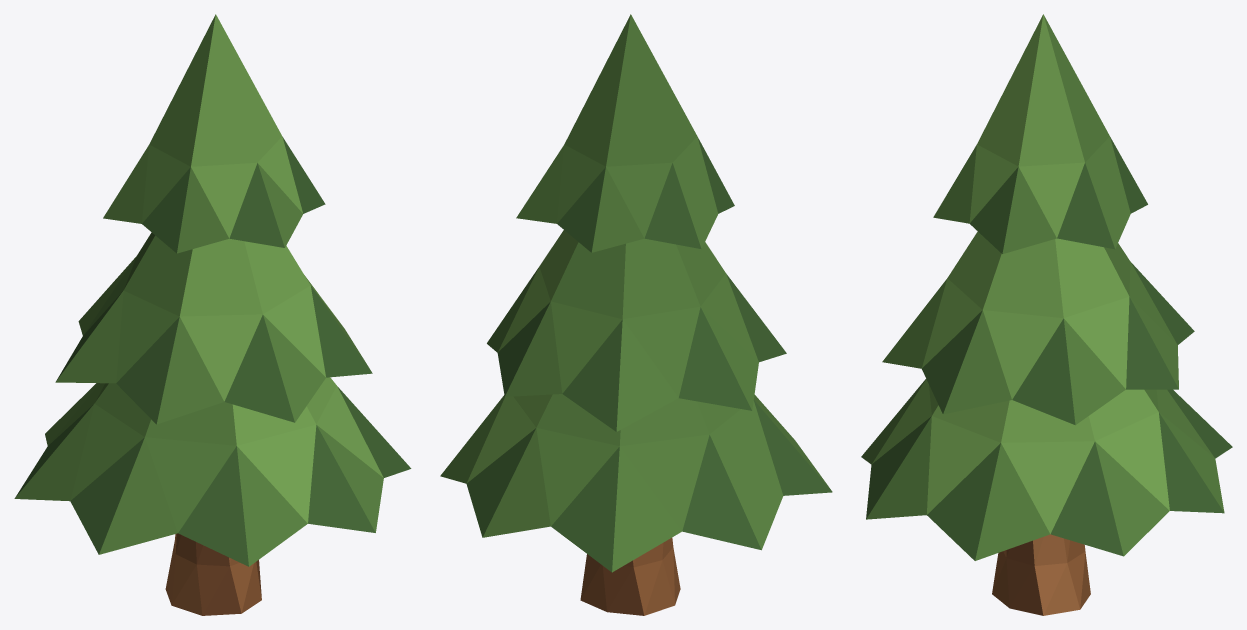
The model's file is FMS_Tree_Spruce_S.fbx.
3 views of the same model, side by side, from view 1: azimuth 30°, elevation 25°; view 2: azimuth 150°, elevation 25°; view 3: azimuth 270°, elevation 25° (orthographic).
Parts seen in each view (by area): view 1: FMS_Tree_Spruce_S; view 2: FMS_Tree_Spruce_S; view 3: FMS_Tree_Spruce_S.
Part boxes in pixels (left/top/right/bottom): FMS_Tree_Spruce_S: left=14, top=14, right=411, bottom=615; FMS_Tree_Spruce_S: left=440, top=14, right=832, bottom=615; FMS_Tree_Spruce_S: left=861, top=14, right=1232, bottom=615.
Size of the model in its own units: 2.07 by 3.5 by 2.03.
